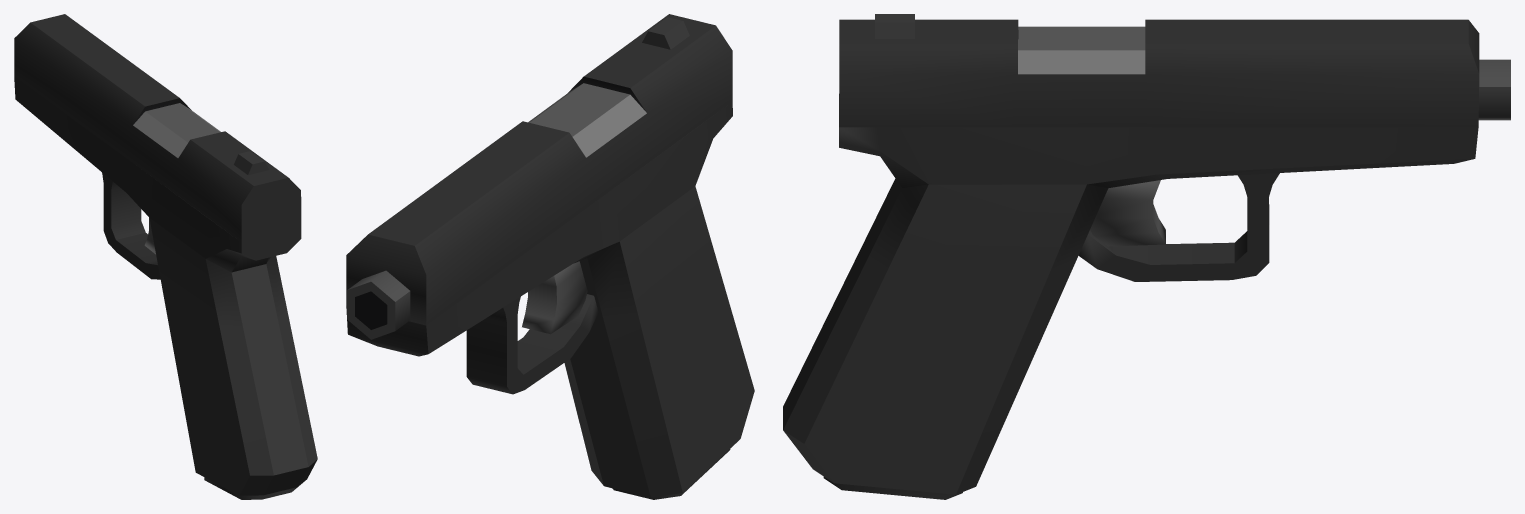
The model's file is Enforcer.fbx.
The picture shows the model from 3 angles, left to right: view 1: azimuth 30°, elevation 25°; view 2: azimuth 150°, elevation 25°; view 3: azimuth 270°, elevation 25°; orthographic projection. The views are drawn at different scales.
Parts seen in each view (by area): view 1: Enforcer, EnforcerMagazine; view 2: Enforcer; view 3: Enforcer, EnforcerMagazine.
Part boxes in pixels (x1,y1,x2,y2): Enforcer: (14, 14, 317, 495); EnforcerMagazine: (204, 477, 297, 499); Enforcer: (346, 14, 754, 497); Enforcer: (783, 14, 1510, 494); EnforcerMagazine: (823, 477, 962, 499).
Size of the model in its own units: 0.0502 by 0.2325 by 0.3297.
